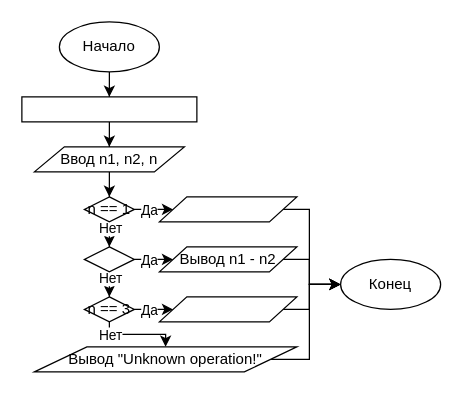
This 463x394 diagram has some shape labels left out. Each missing label, with the centre of its shape:
"n == 2" belongs at point (108, 259).
"Вывод n1 + n2" belongs at point (227, 209).
"Вывод n2 - n1" belongs at point (227, 309).
"Целые числа n1, n2, n" belongs at point (109, 109).
